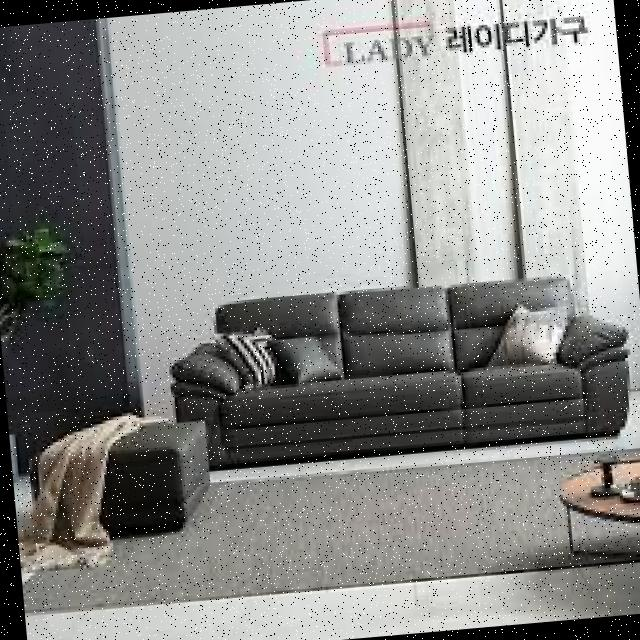Sofa: (137, 227, 640, 503)
